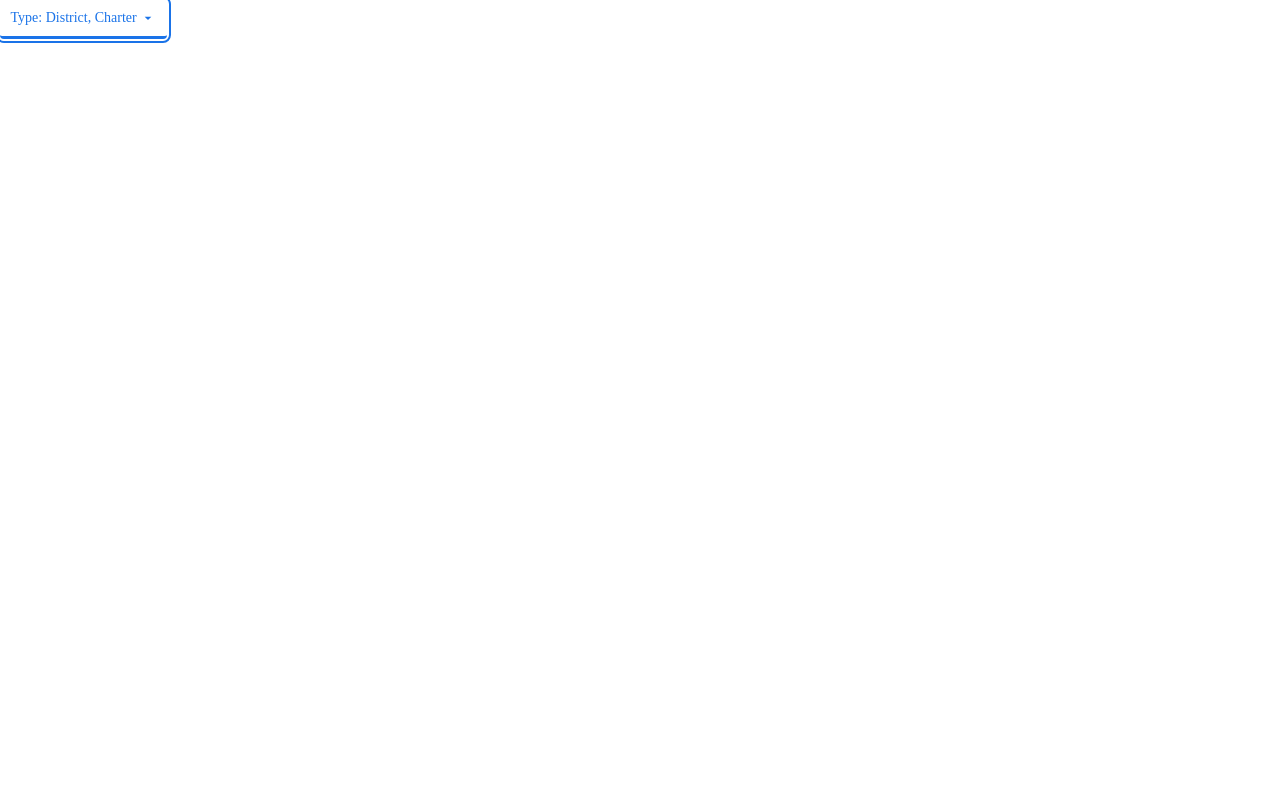
Test: Menu › opens a labelled panel of checkboxes and applies the draft in option order
This screenshot has width=1280, height=800.
Press Enter
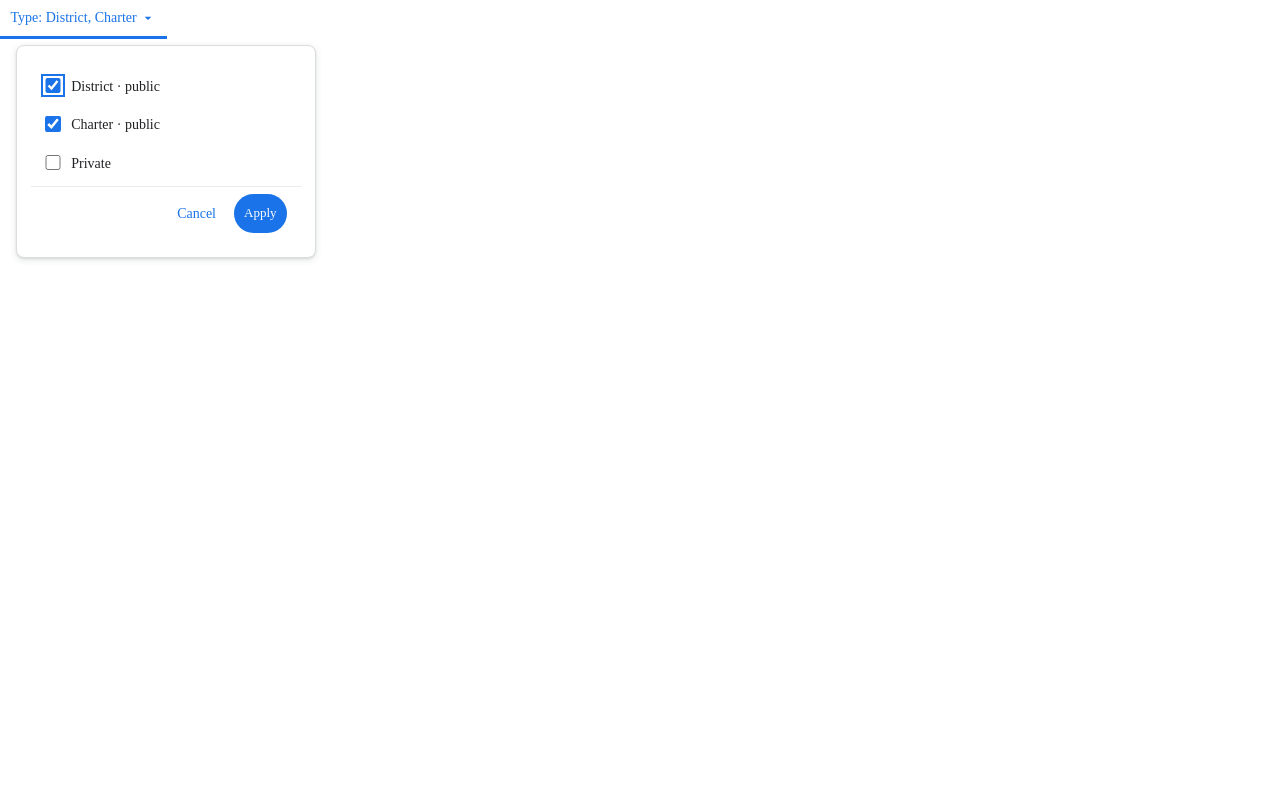
expect the dialog named "School type" is shown: met, box [16, 45, 316, 258]
expect the element named "School type" is shown: met, box [30, 68, 160, 171]
expect the checkbox labelled "District · public" is checked: met
# Uncheck District, check Private, then Apply with the keyboard.
Click the checkbox labelled "District · public" at (53, 85), box [45, 78, 61, 93]
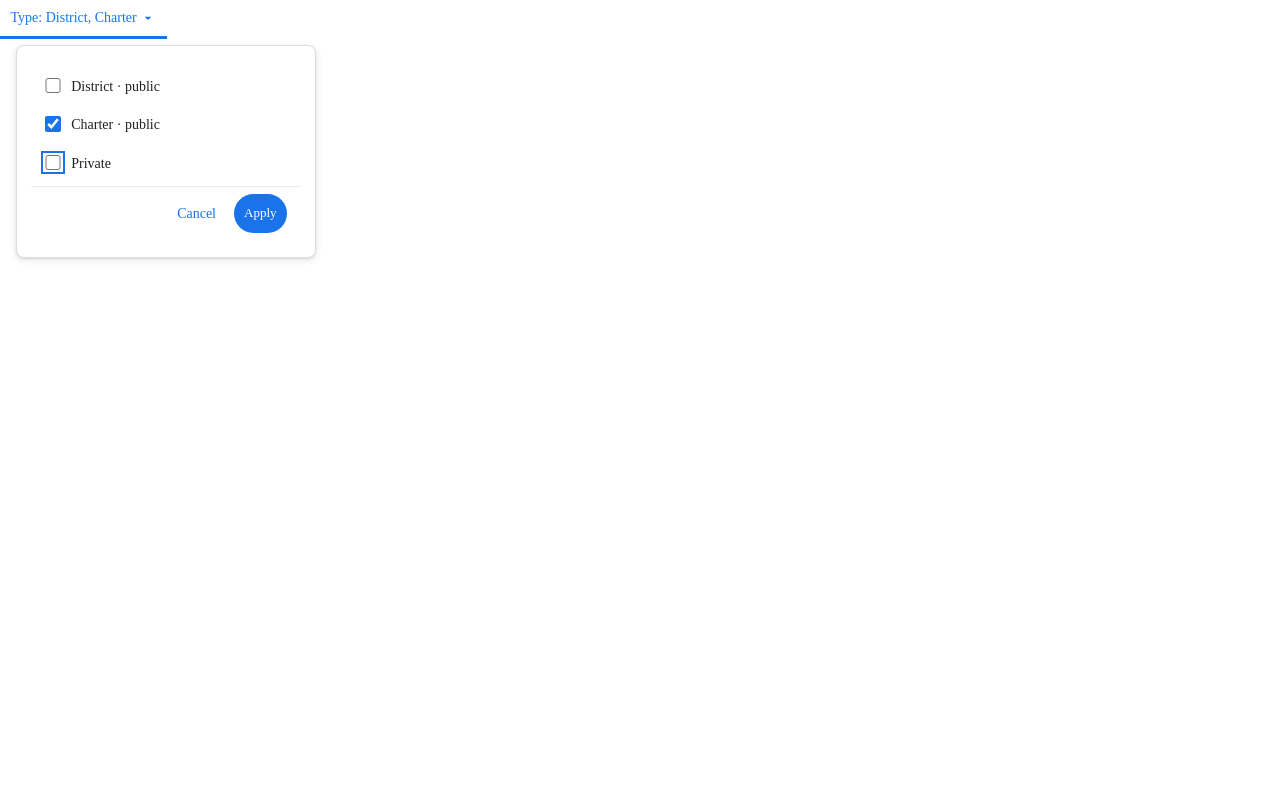
Type keys " "
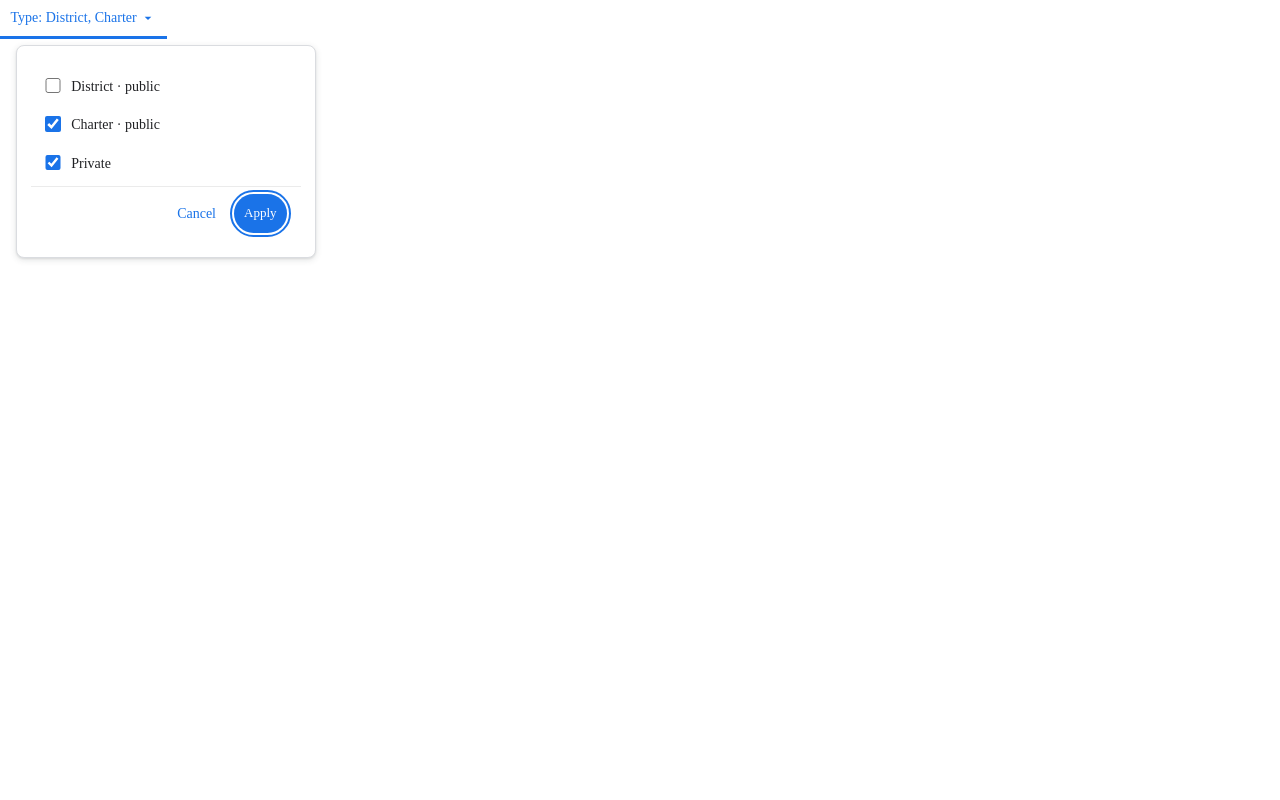
expect the checkbox labelled "Private" is checked: met, box [45, 154, 61, 170]
Press Enter
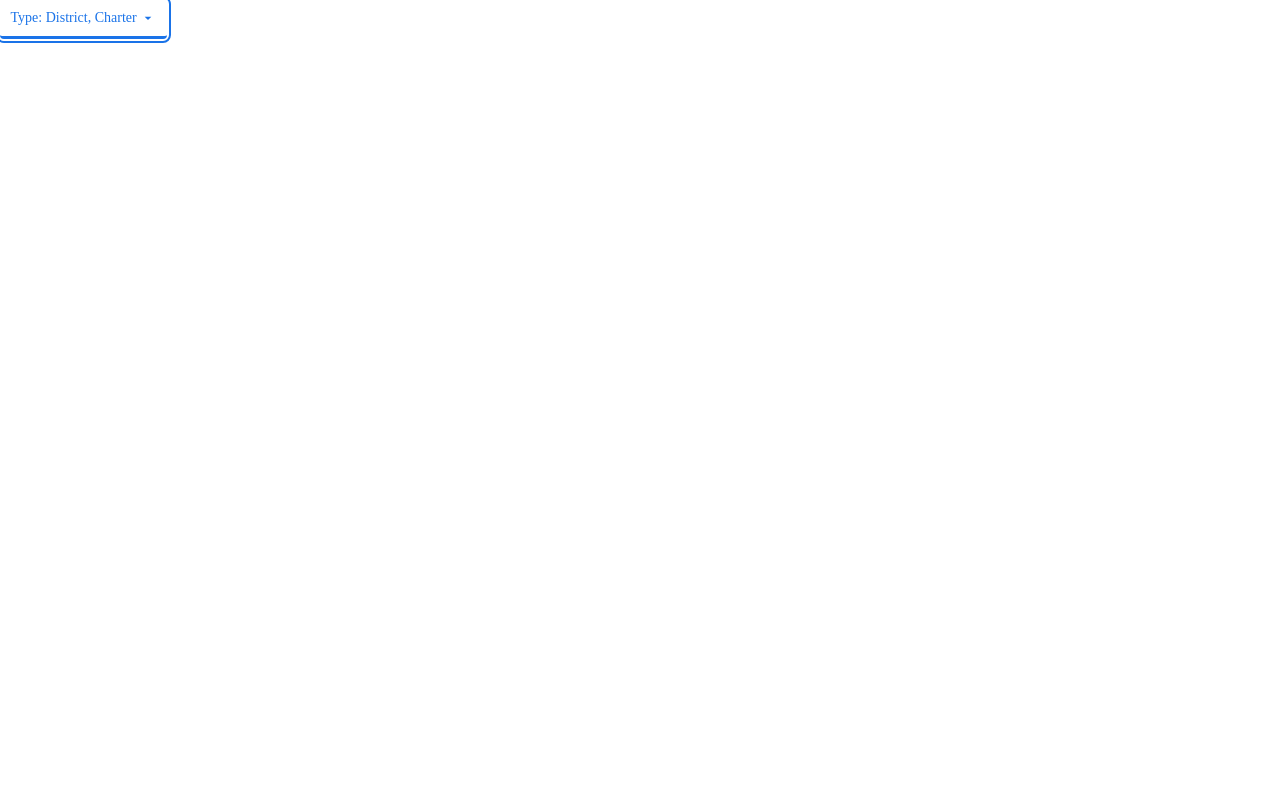
expect the dialog is gone: met
